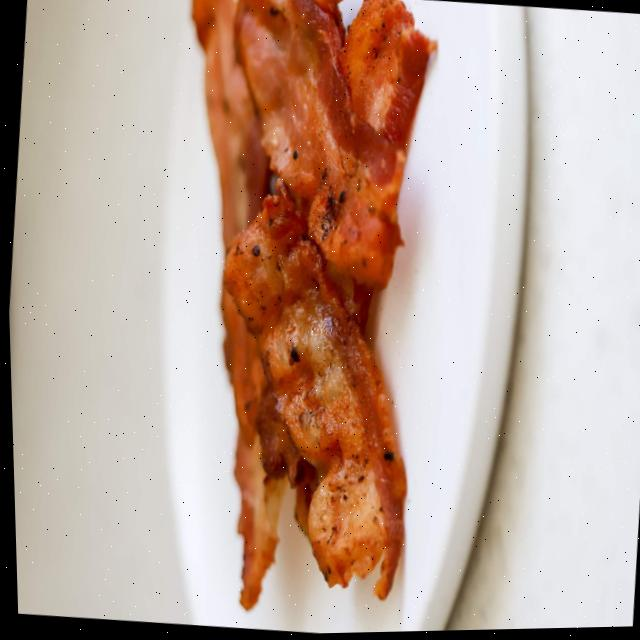Bacon: (222, 181, 402, 599), (235, 0, 404, 287), (191, 0, 268, 248), (339, 0, 435, 148), (231, 431, 281, 610)
